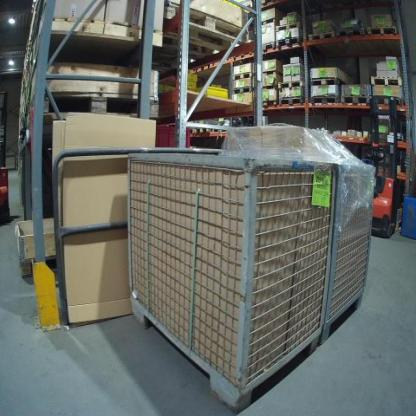pallet: (174, 8, 242, 44), (303, 29, 340, 46), (369, 73, 406, 87), (373, 96, 407, 111), (309, 95, 341, 110), (336, 25, 365, 41), (312, 75, 347, 88), (366, 26, 401, 38), (279, 97, 305, 111), (340, 95, 373, 106), (255, 68, 286, 79), (276, 22, 301, 35), (232, 70, 255, 82), (277, 36, 302, 47), (208, 126, 236, 135), (260, 98, 278, 111), (233, 85, 254, 96), (188, 125, 208, 135), (277, 82, 305, 89), (261, 41, 277, 51), (264, 84, 278, 93), (254, 21, 276, 26)
pallet_truck: (362, 90, 406, 244), (0, 87, 12, 229)
small_load_carrier: (152, 124, 192, 146)
stillage: (121, 143, 378, 415)
